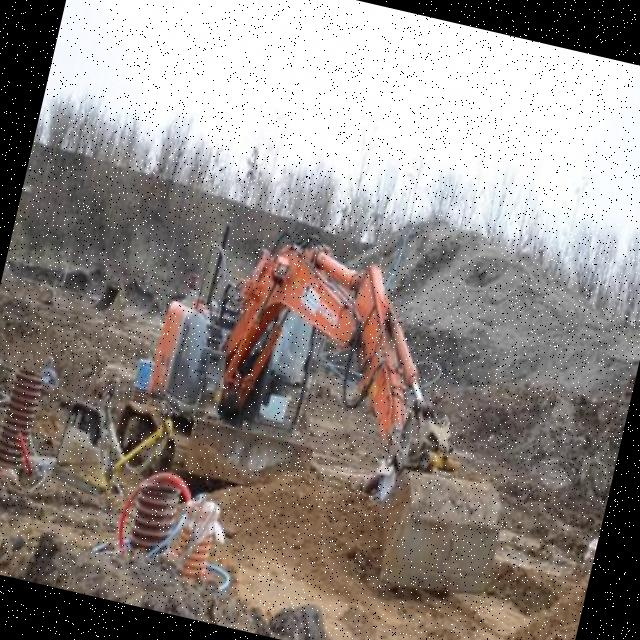Excavator: (95, 184, 562, 604)
